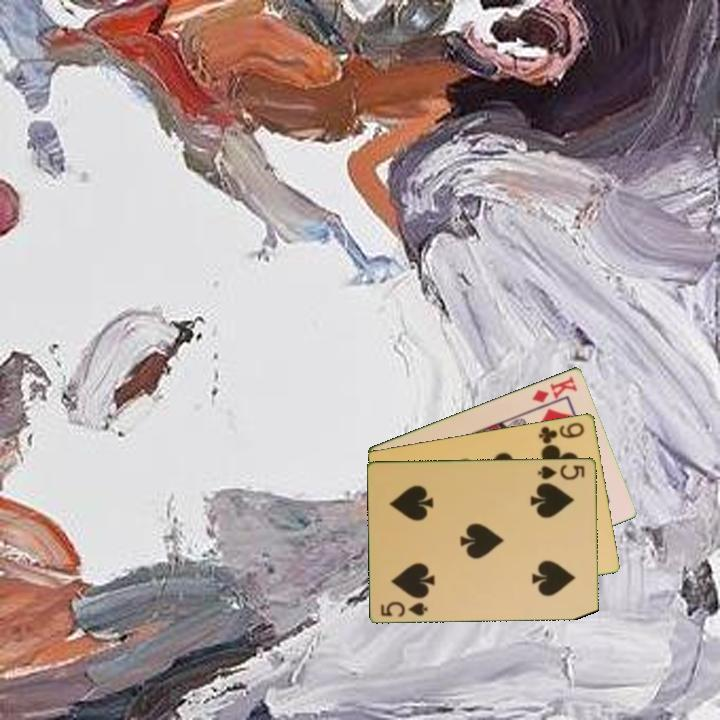5s: (534, 461, 588, 482), (378, 598, 431, 619)
9c: (535, 418, 587, 447)
Kd: (528, 372, 580, 405)
